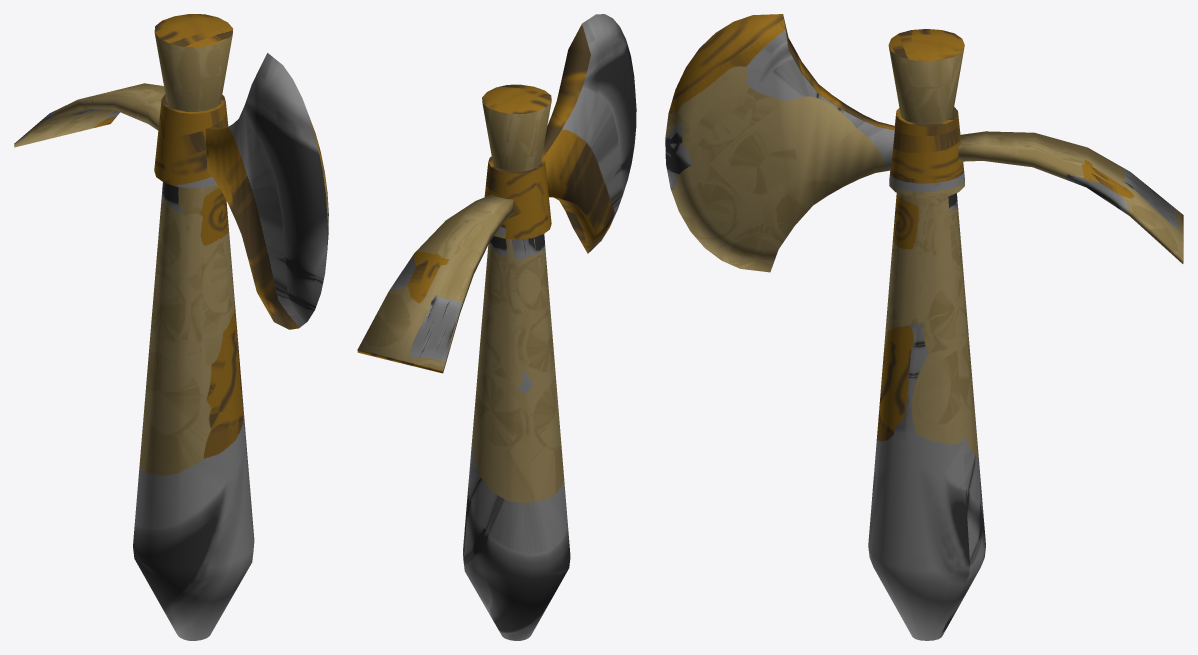
The model's file is PickAxeLow.fbx.
3 views of the same model, side by side, from view 1: azimuth 30°, elevation 25°; view 2: azimuth 150°, elevation 25°; view 3: azimuth 270°, elevation 25° (orthographic). The views are drawn at different scales.
Visible parts, largest first — view 1: Axe_LP.001; view 2: Axe_LP.001; view 3: Axe_LP.001.
Boxes of the visible parts, x1,y1,x2,y2 form: Axe_LP.001: (14,14,328,640); Axe_LP.001: (357,14,636,640); Axe_LP.001: (665,14,1183,640).
Size of the model in its own units: 384 by 2236 by 1691.
